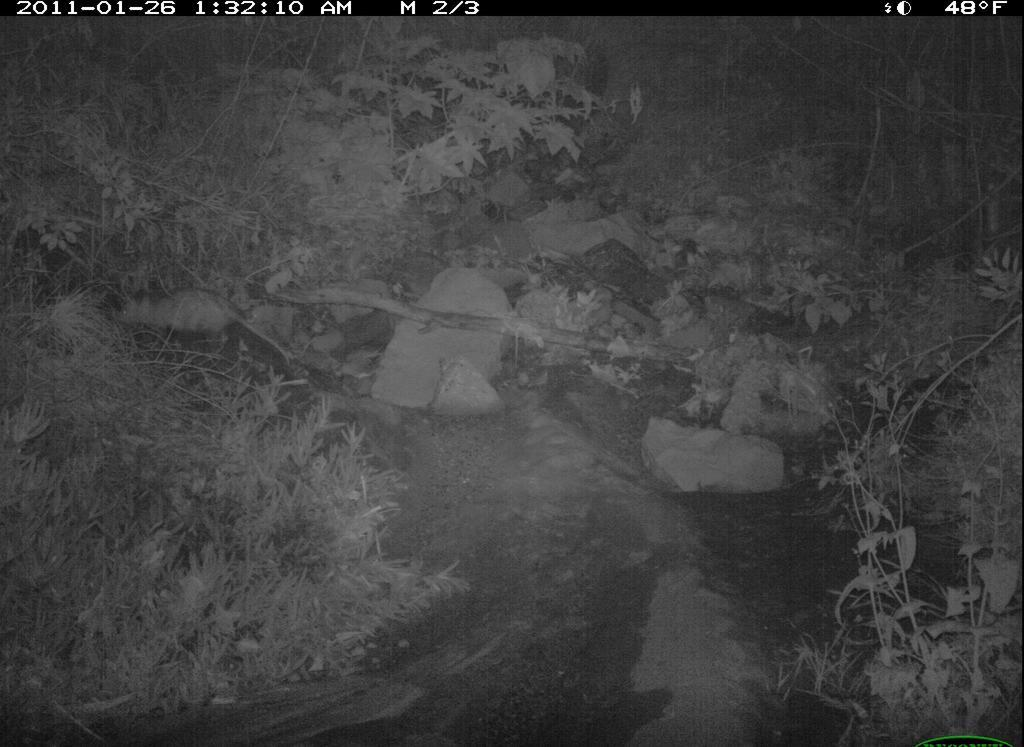opossum: (108, 281, 300, 373)
